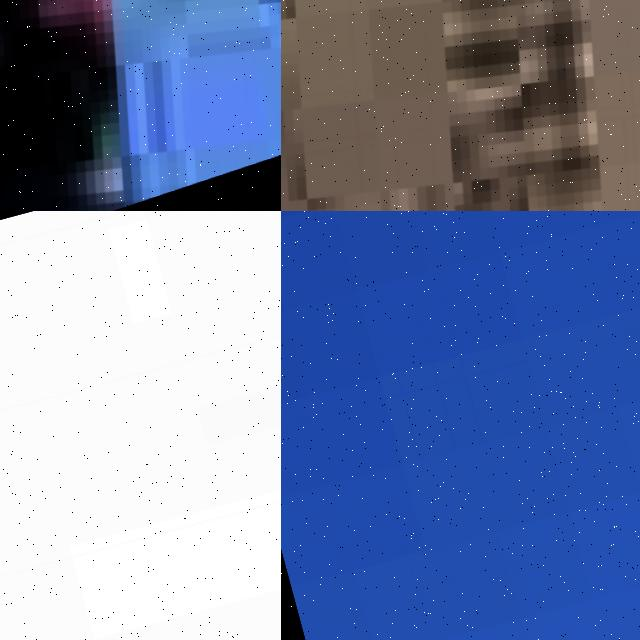drone: (281, 0, 640, 211), (0, 0, 281, 211), (0, 529, 281, 640)
